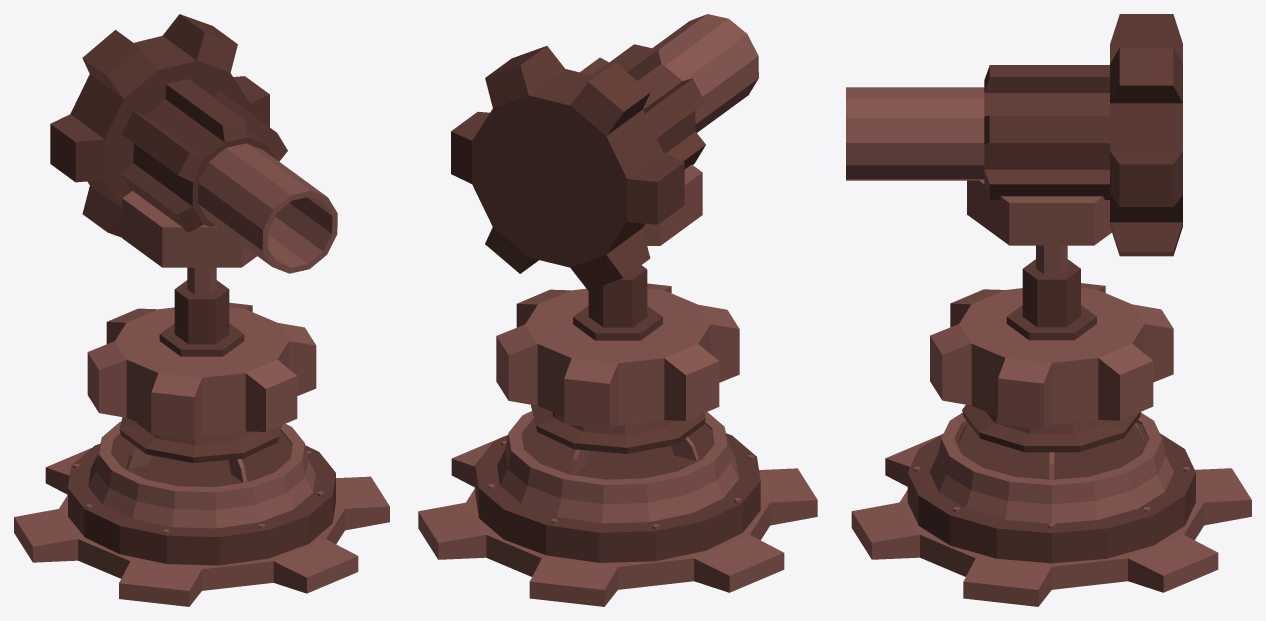
File: Cannon_1.fbx
3 renders of one model, left to right at view 1: azimuth 30°, elevation 25°; view 2: azimuth 150°, elevation 25°; view 3: azimuth 270°, elevation 25°, orthographic. The views are drawn at different scales.
Parts seen in each view (by area): view 1: Cannon_1_Gun, Cannon_1_Base, Cannon_1_Mid; view 2: Cannon_1_Gun, Cannon_1_Base, Cannon_1_Mid; view 3: Cannon_1_Gun, Cannon_1_Base, Cannon_1_Mid.
Part boxes in pixels (bbox=[...]): Cannon_1_Gun: bbox=[50, 14, 337, 273]; Cannon_1_Base: bbox=[14, 421, 389, 606]; Cannon_1_Mid: bbox=[87, 267, 316, 462]; Cannon_1_Gun: bbox=[451, 14, 758, 290]; Cannon_1_Base: bbox=[418, 411, 817, 606]; Cannon_1_Mid: bbox=[496, 265, 739, 453]; Cannon_1_Gun: bbox=[846, 14, 1182, 256]; Cannon_1_Base: bbox=[851, 412, 1251, 606]; Cannon_1_Mid: bbox=[930, 245, 1173, 452].
Bounding box in the file's own units: 1.38 × 1.88 × 1.4.
